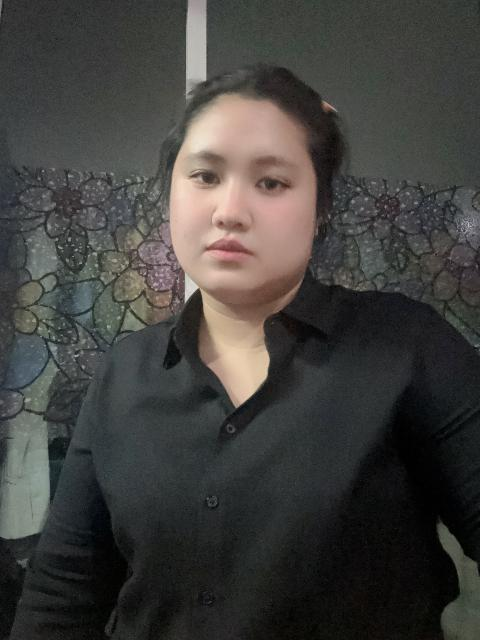fokus: (165, 85, 324, 295)
